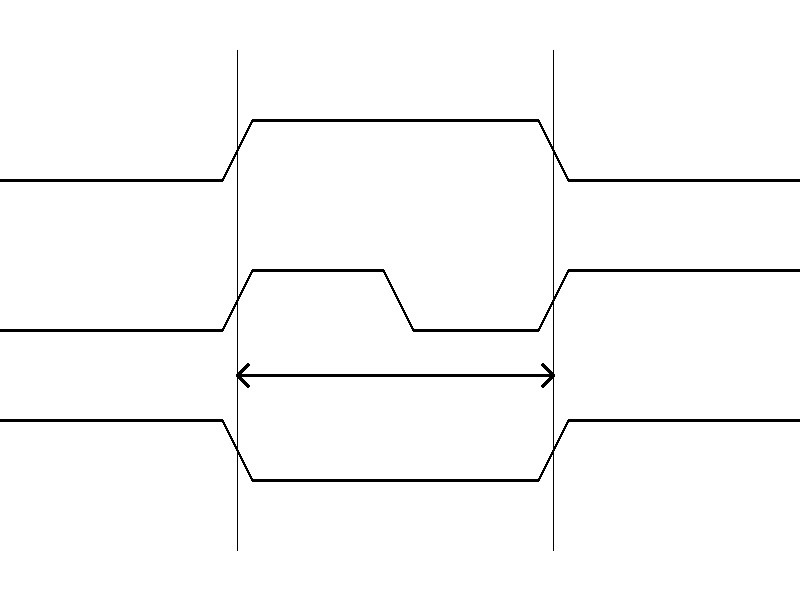double_arrow: (237, 360, 553, 390)
